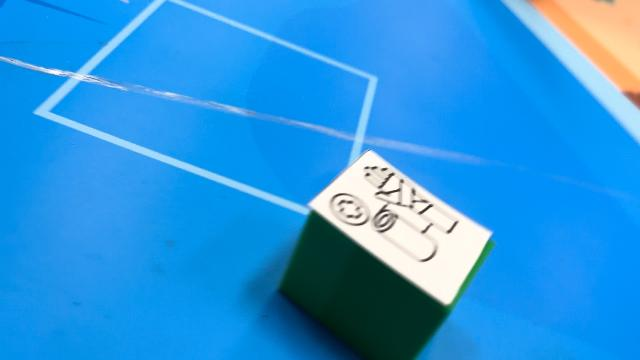bandage: (276, 149, 496, 359)
